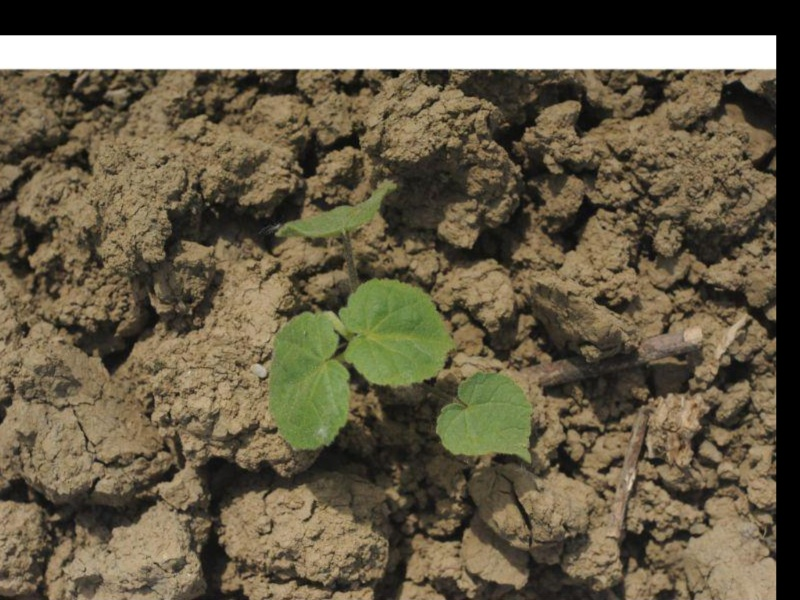velvet: (268, 191, 532, 468)
